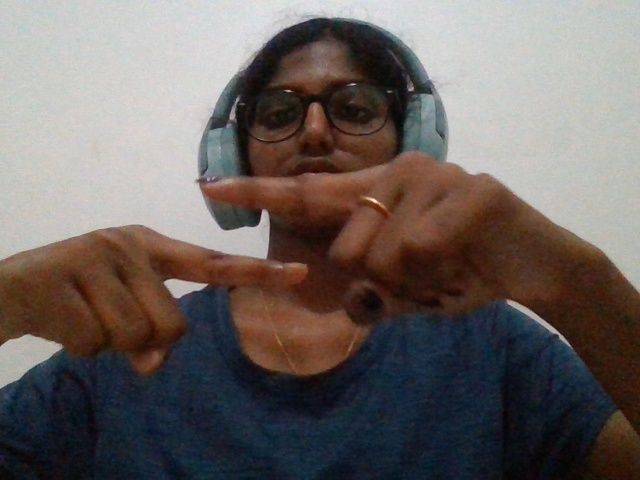Sign: (15, 101, 612, 413)
